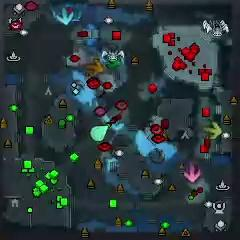p2: (91, 125, 108, 142)
x1: (183, 166, 202, 184)
x2: (204, 122, 223, 139)
x3: (57, 8, 73, 26)
x4: (104, 54, 120, 69)
x5: (85, 59, 103, 77)
